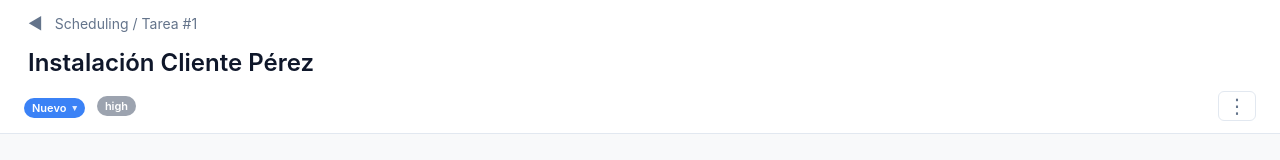
it: TaskHeader › shows input when title is clicked
Click the button "Instalación Cliente Pérez" at (171, 63), box x1=24 y1=43 x2=318 y2=83
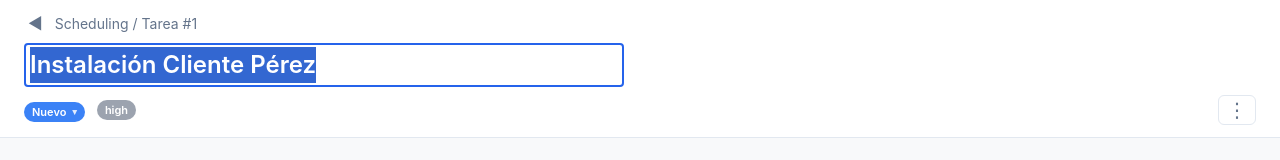
Now the field is shown, box x1=24 y1=43 x2=624 y2=87
